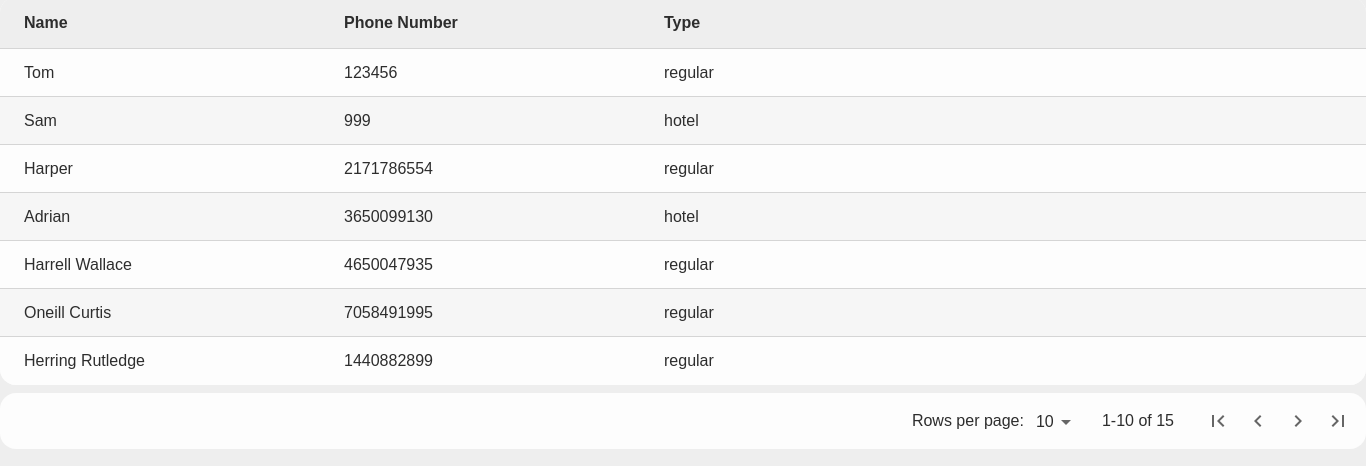
Test case: Generic Table component › Table with pagination › should move to final page when last page button is clicked and first page when first page button is clicked
The image size is (1366, 466).
Select "5" in the dropdown named "Rows per page:" at (1053,422), box [1028,410,1078,434]
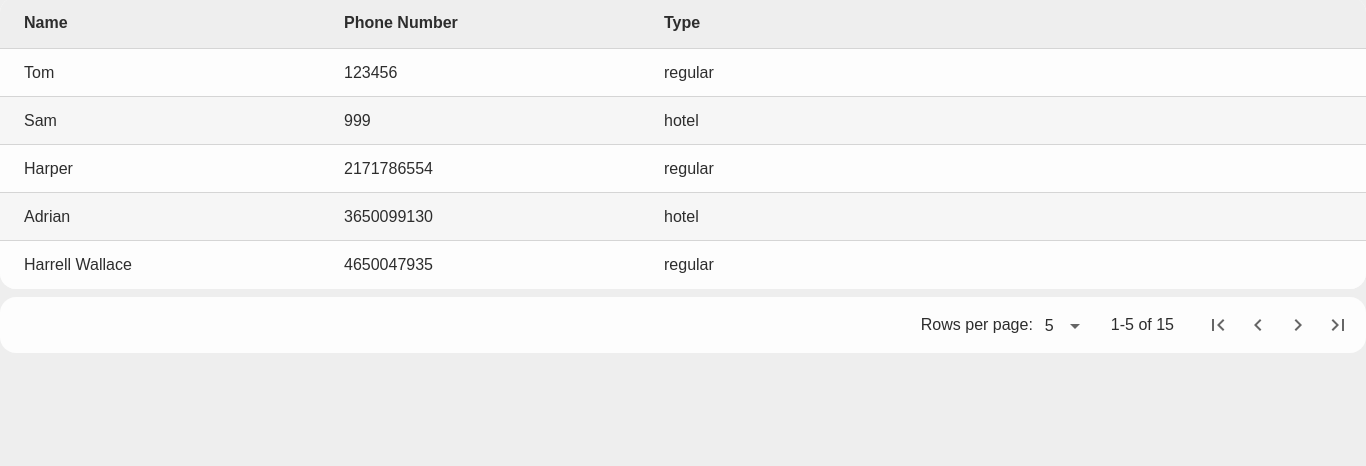
Click the button named "Last Page" at (1338,325), box [1318,305,1358,345]
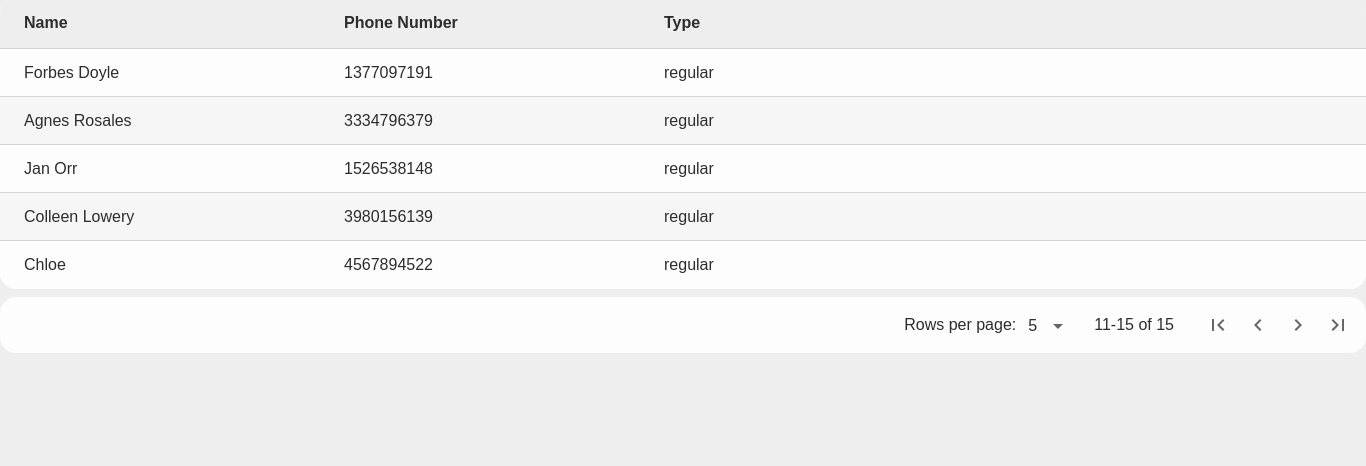
Expected: the text "Forbes Doyle" is shown, [24,64,119,80]
Expected: the text "Agnes Rosales" is shown, [24,112,132,128]
Expected: the text "Jan Orr" is shown, [24,160,77,176]
Click the button named "First Page" at (1218,325), box [1198,305,1238,345]
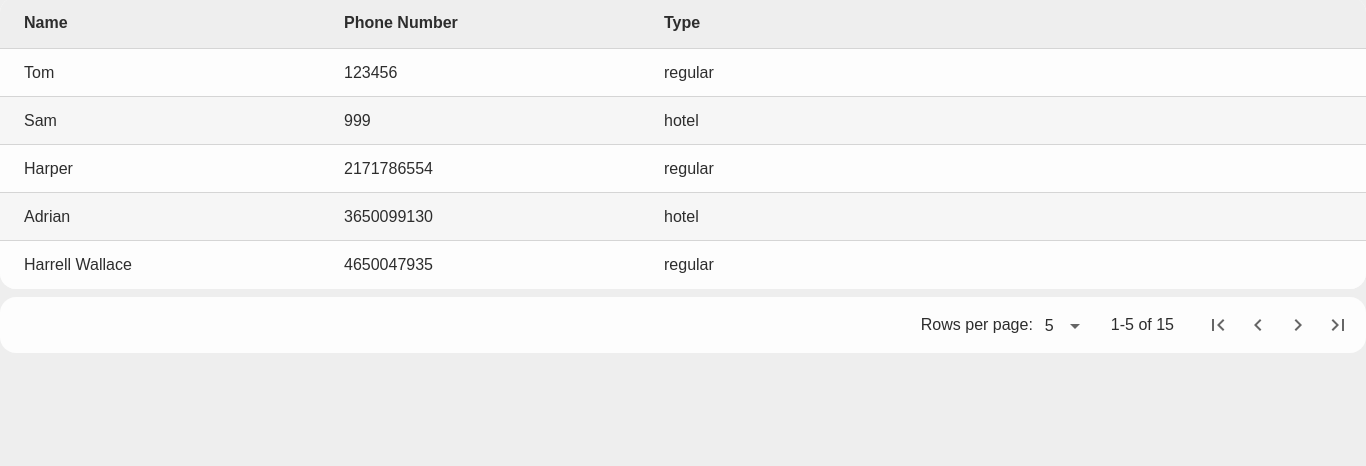
Expected: the text "Tom" is shown, [24,64,54,80]
Expected: the text "Sam" is shown, [24,112,57,128]
Expected: the text "Harper" is shown, [24,160,73,176]
